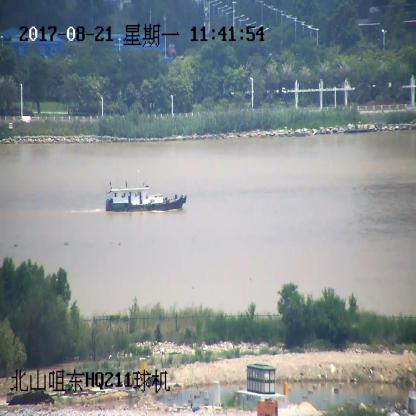Fishing Boat: (104, 173, 187, 214)
